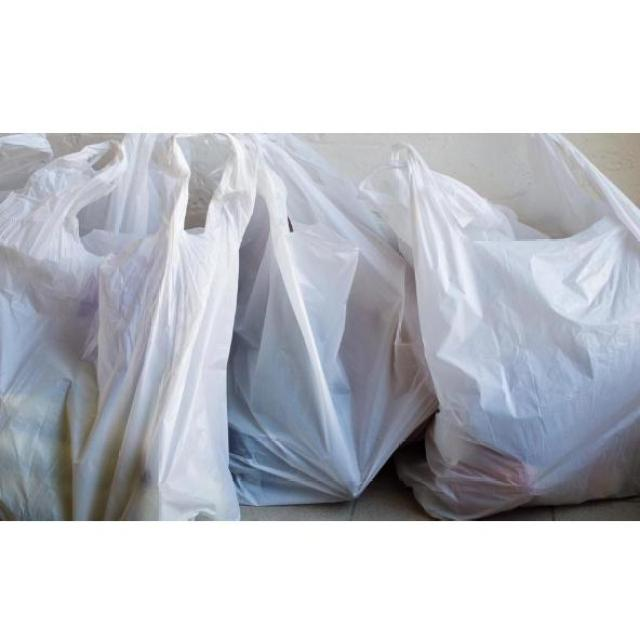plastik: (362, 135, 640, 518), (228, 135, 436, 504), (74, 135, 258, 519), (0, 143, 125, 520)
